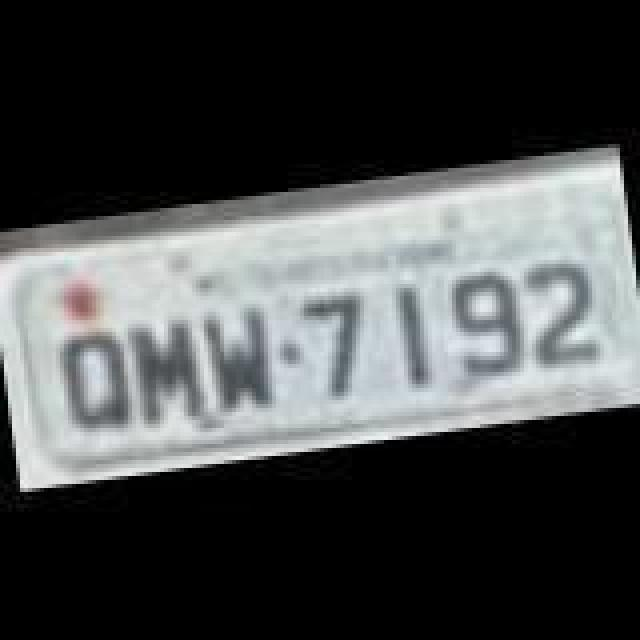1: (390, 282, 442, 398)
2: (522, 258, 606, 374)
7: (296, 284, 376, 404)
9: (446, 262, 530, 378)
M: (122, 310, 214, 434)
Q: (56, 328, 136, 440)
W: (200, 300, 280, 420)
